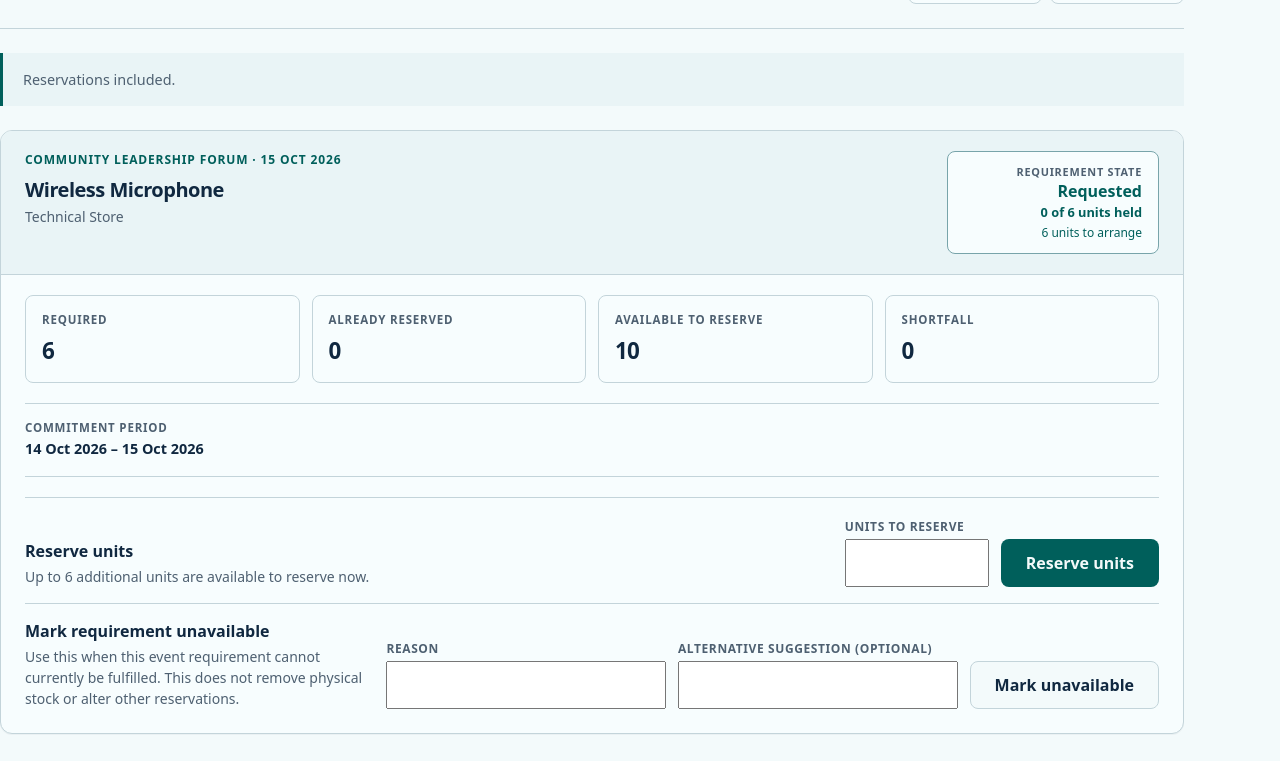
[TC-SPL-93-007] validates the unavailable reason before changing a requested requirement
Click the button "Mark unavailable".
click(1064, 685)  # box top-left (970, 661), bottom-right (1159, 709)
(page scrolled)
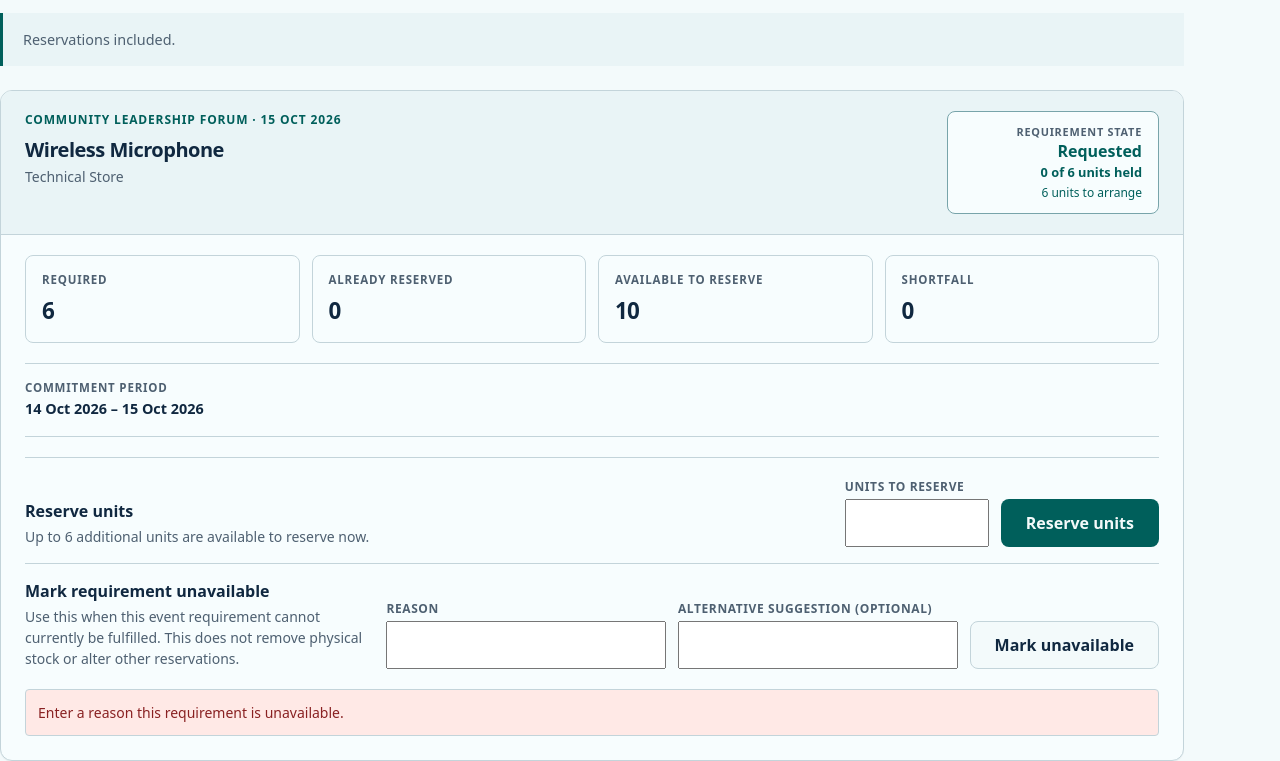
Result: the message "Enter a reason this requirement is unavailable." is shown at top-left (25, 689), bottom-right (1159, 736)
